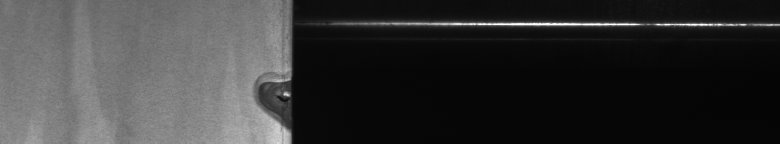hb: (248, 68, 280, 132)
